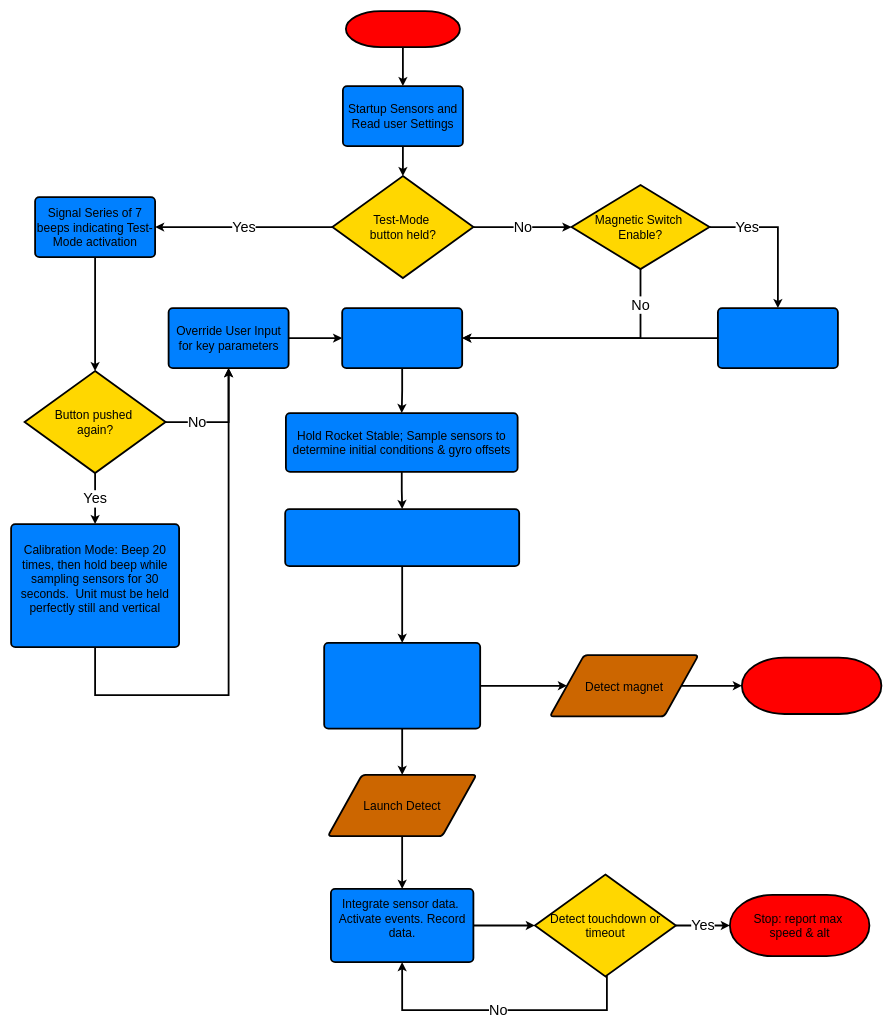
Image size: 893x1029. Some labels were removed from this diagram. The box of each missing label's shape, as (x1, y1, x2, y2) in pixels:
Await Launch Detect. Signal continuity continuously: (323, 642, 481, 729)
Beep Out: Main Deploy Alt Last Flight Alt Battery Voltage: (284, 508, 520, 567)
Power On: (345, 10, 460, 48)
Signal Solid Beep for user determined length: (341, 307, 463, 369)
Stop launch detect: (741, 656, 882, 715)
Wait until magnet is sensed, beep out continuity: (717, 307, 838, 369)
